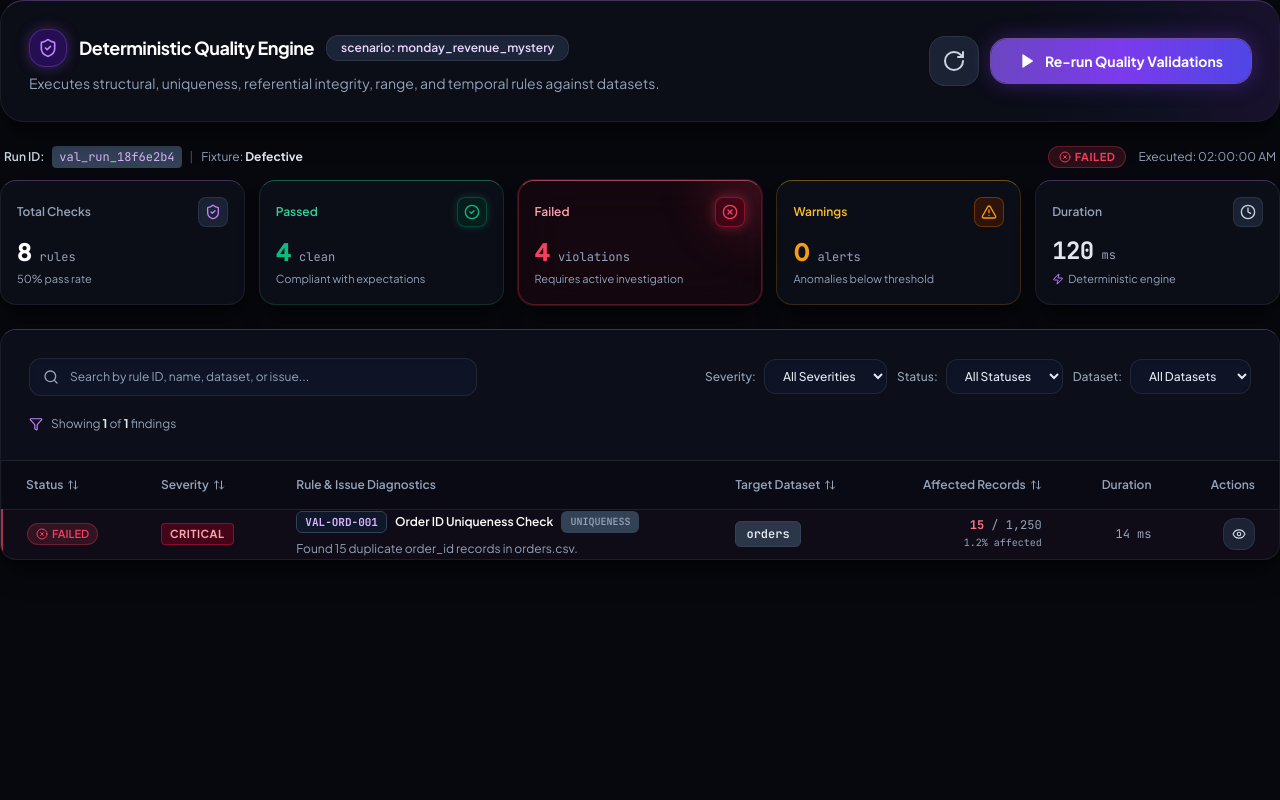
ValidationView Component › opens evidence drawer when finding row is selected
Click the row with test id "finding-row-VAL-ORD-001" at [640, 534], box [2, 509, 1279, 559]
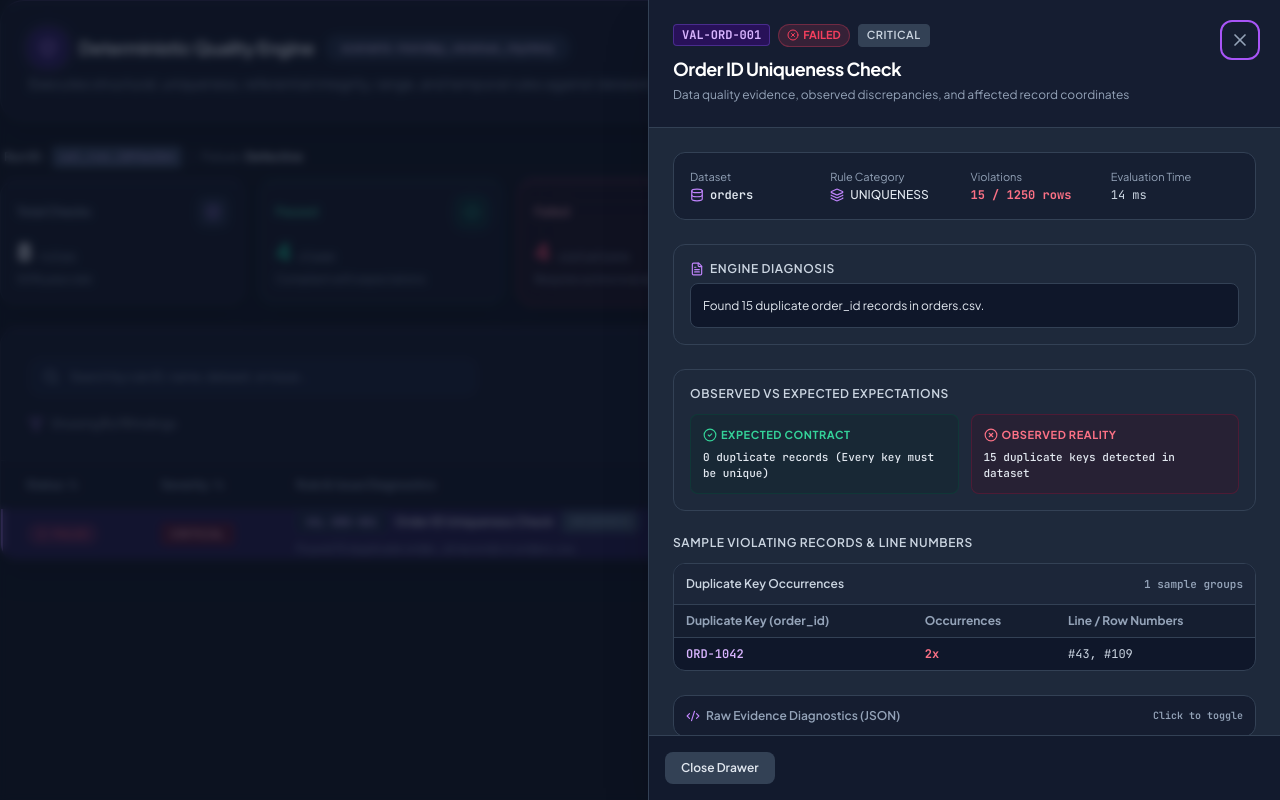
Expected: the dialog with test id "evidence-drawer" is shown
Expected: the heading "Order ID Uniqueness Check" is shown, [673, 56, 901, 80]
Expected: the text "ORD-1042" is shown, [674, 638, 913, 670]
